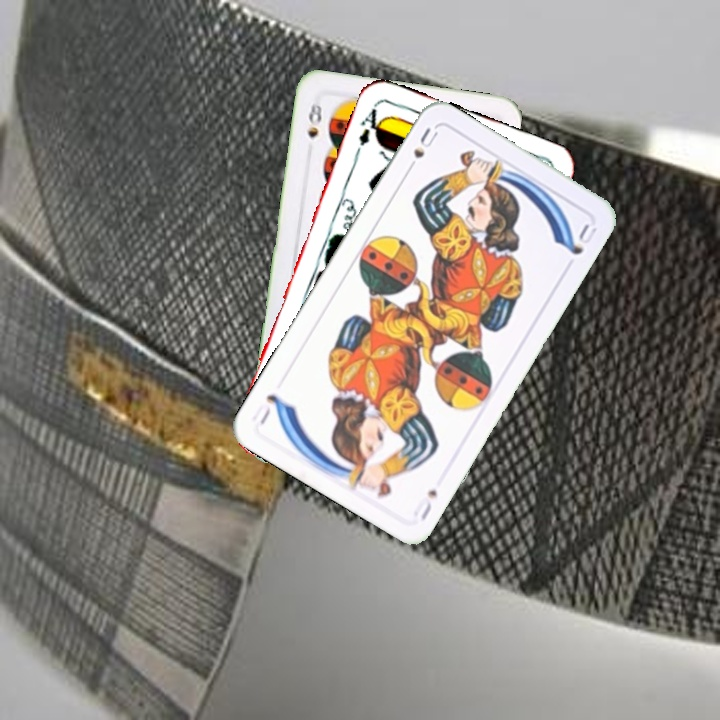EA: (354, 100, 387, 149)
S8: (303, 99, 325, 141)
SU: (401, 123, 441, 177), (409, 485, 440, 524)
